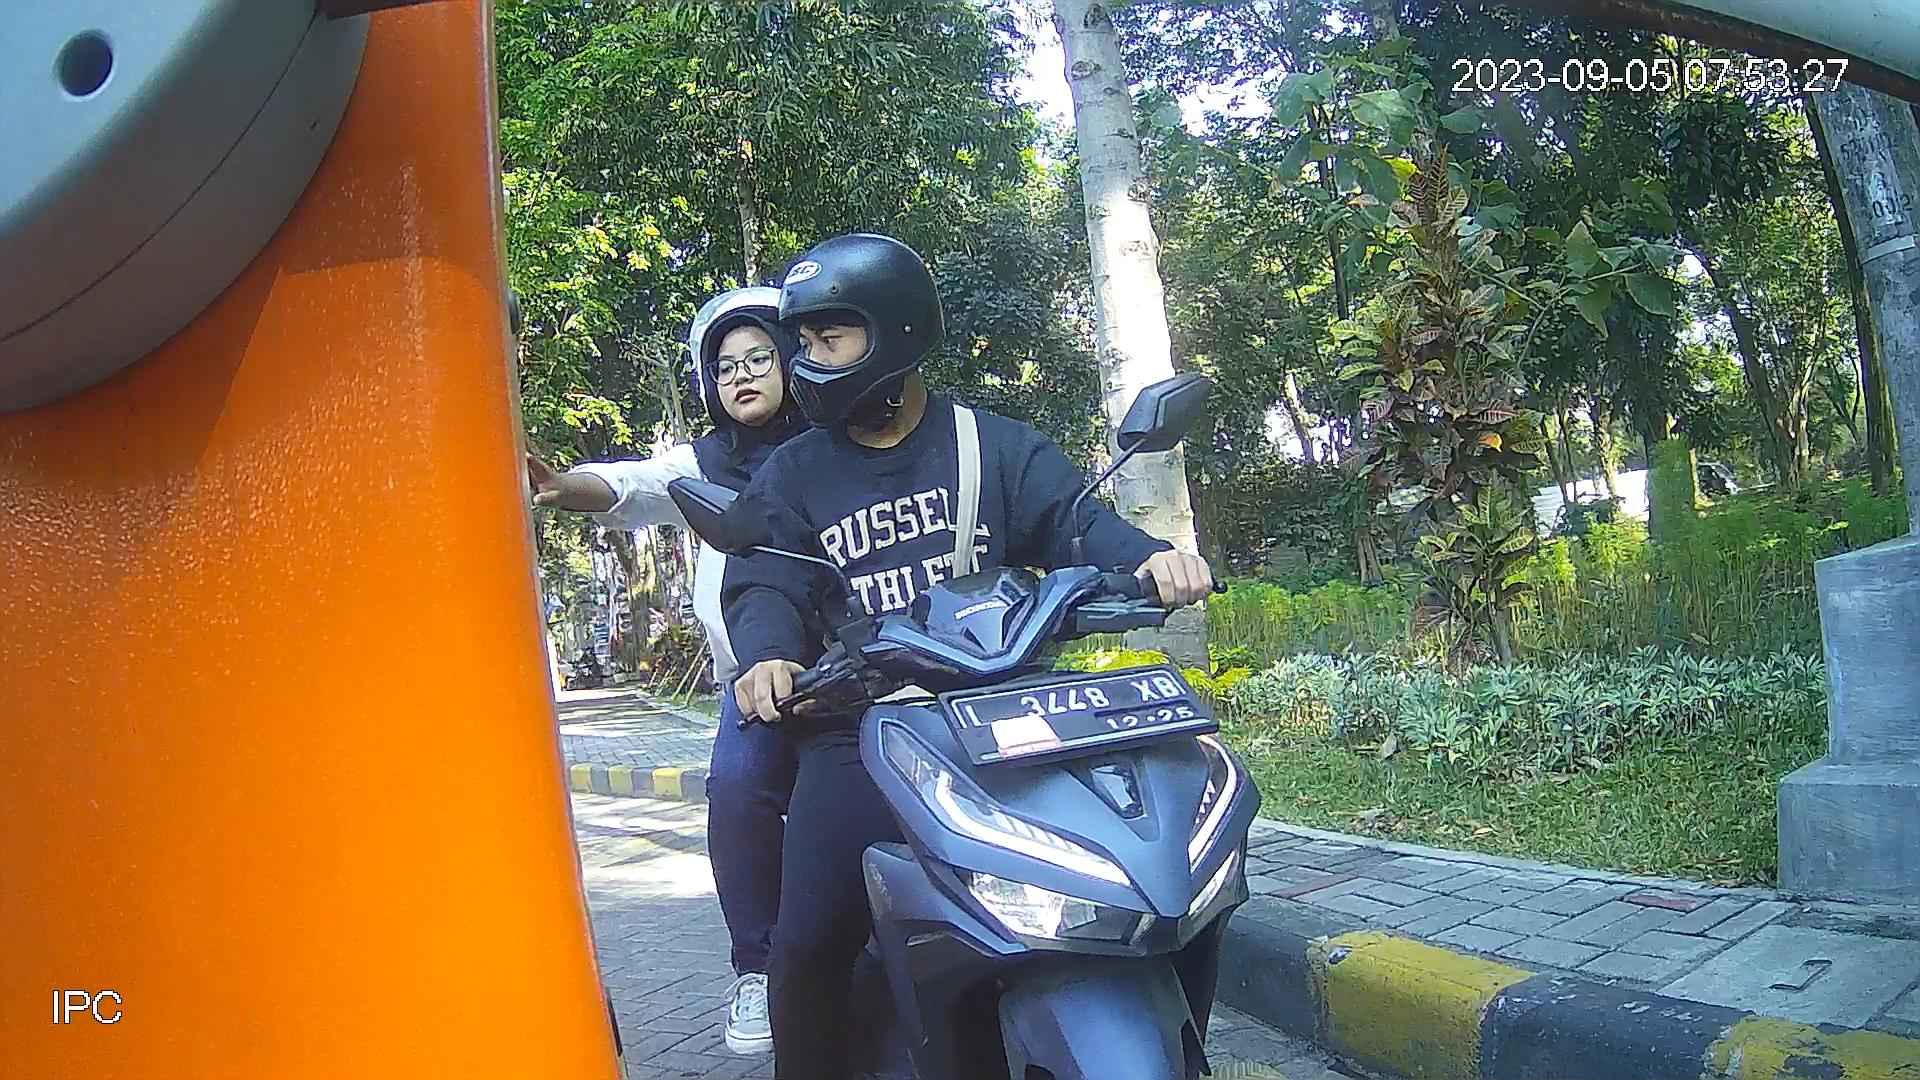plat: (934, 663, 1228, 770)
